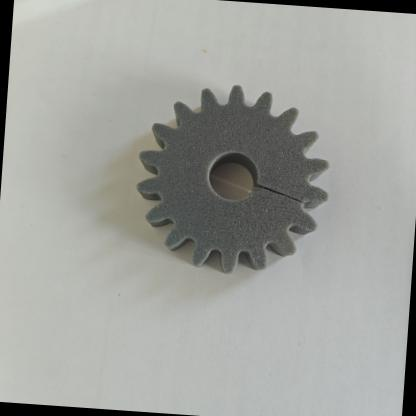defect: (238, 168, 337, 230)
gear: (118, 70, 354, 287)
